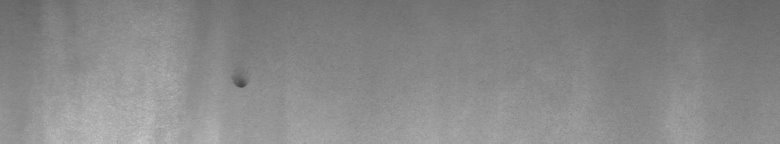fi: (231, 76, 252, 96)
